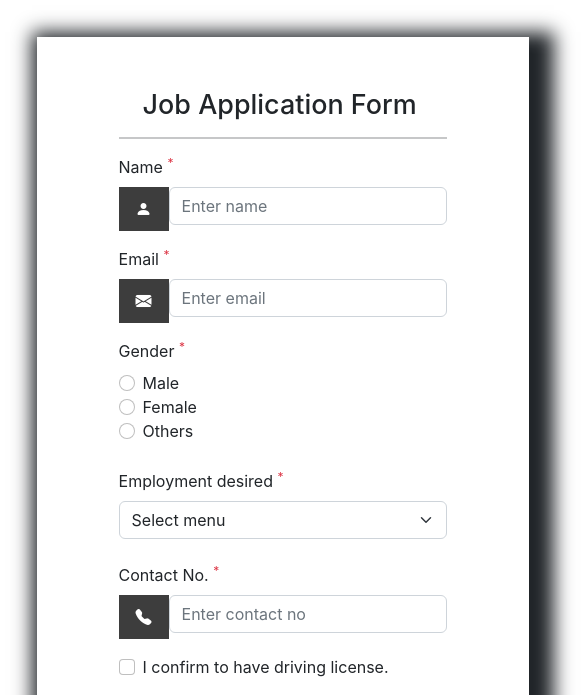
Scenario: Dynamic Form › email verification
Step 1. Type "^%ghijkyhgmail.com" into the field with test id "email" → {"x": 308, "y": 298}, box [168, 279, 447, 317]
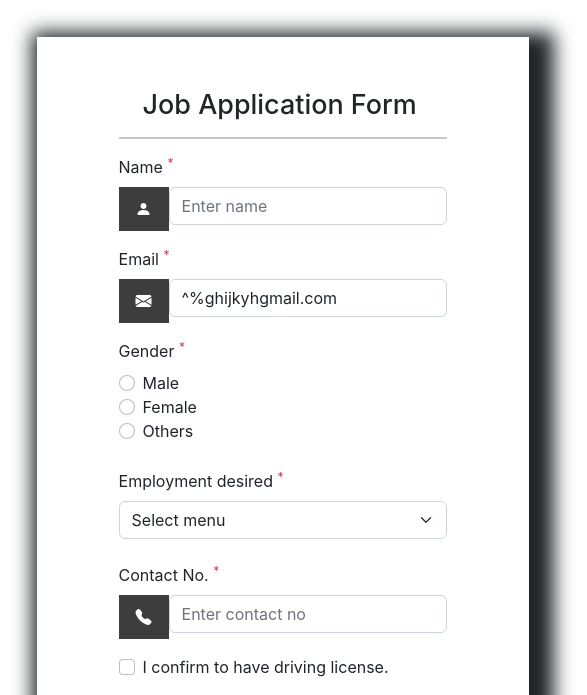
Step 2. Leave the field with test id "email", box [168, 279, 447, 317]
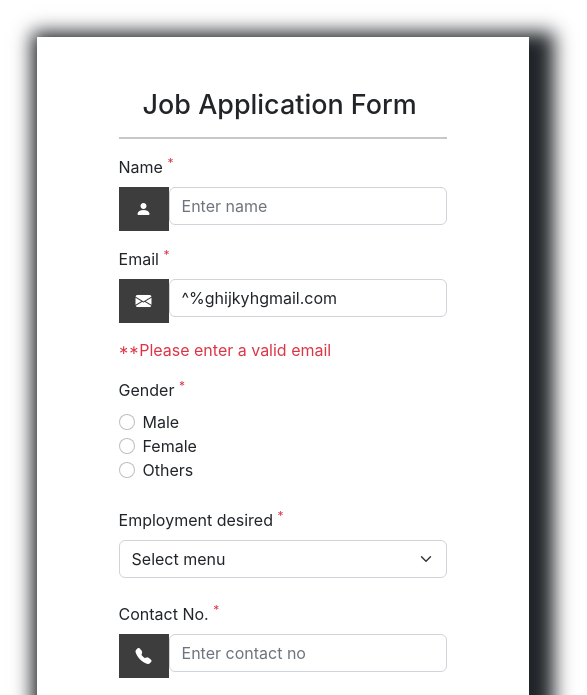
Check: the text "**Please enter a valid email" is shown, box [118, 340, 331, 360]
